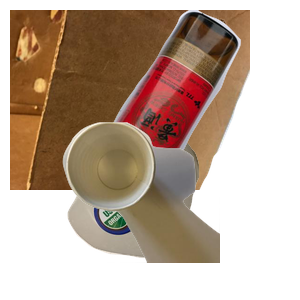cardboard: (10, 10, 250, 190)
glass: (85, 10, 300, 190)
plastic: (65, 123, 257, 300)
trash: (60, 120, 300, 300)
